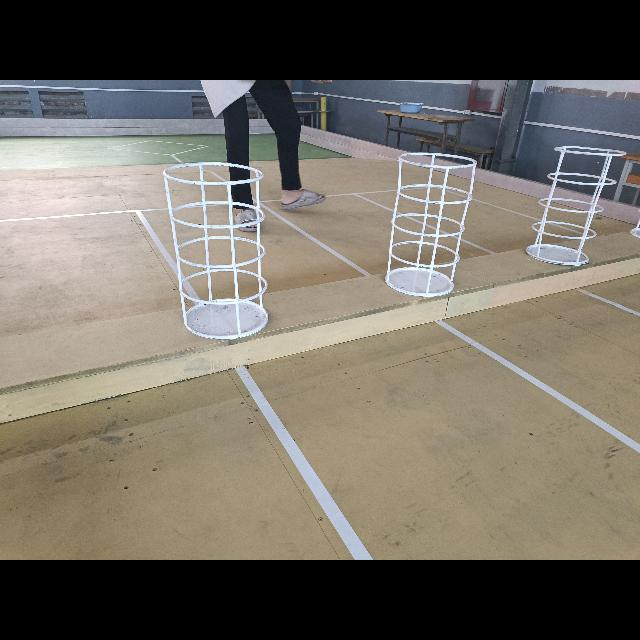S: (161, 158, 279, 343), (380, 148, 478, 302), (525, 145, 629, 269)
